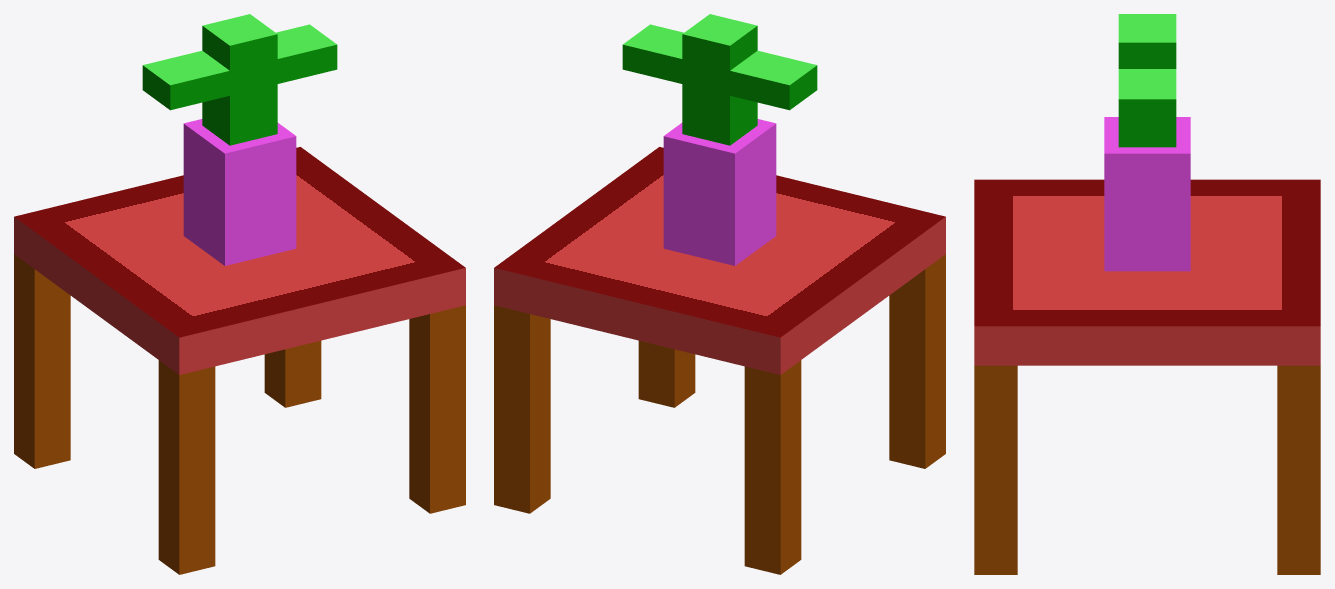
File: lotek_tile_039.gltf
3 renders of one model, left to right at view 1: azimuth 30°, elevation 25°; view 2: azimuth 150°, elevation 25°; view 3: azimuth 270°, elevation 25°, orthographic. The views are drawn at different scales.
Parts seen in each view (by area): view 1: lotek_tile_039; view 2: lotek_tile_039; view 3: lotek_tile_039.
Part boxes in pixels (left/top/right/bottom): lotek_tile_039: left=14, top=14, right=465, bottom=574; lotek_tile_039: left=494, top=14, right=945, bottom=574; lotek_tile_039: left=974, top=14, right=1320, bottom=574.
Size of the model in its own units: 12 by 18 by 12.
Materials: 1 (1 with a texture image).
